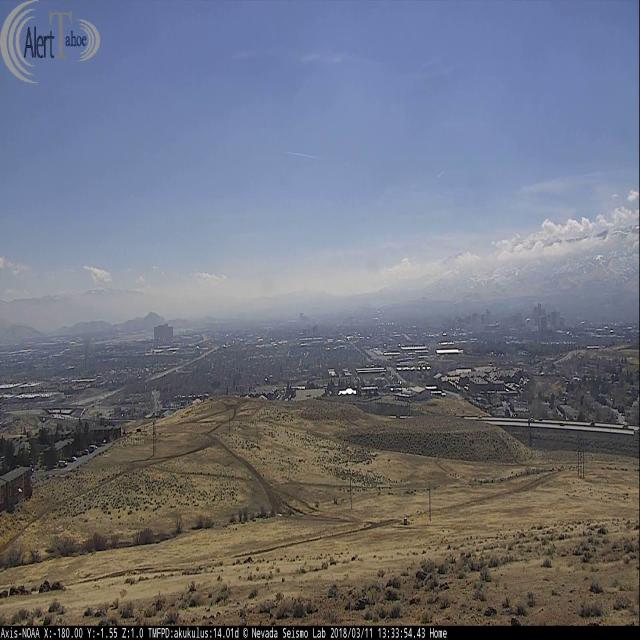smoke: (80, 328, 96, 372)
